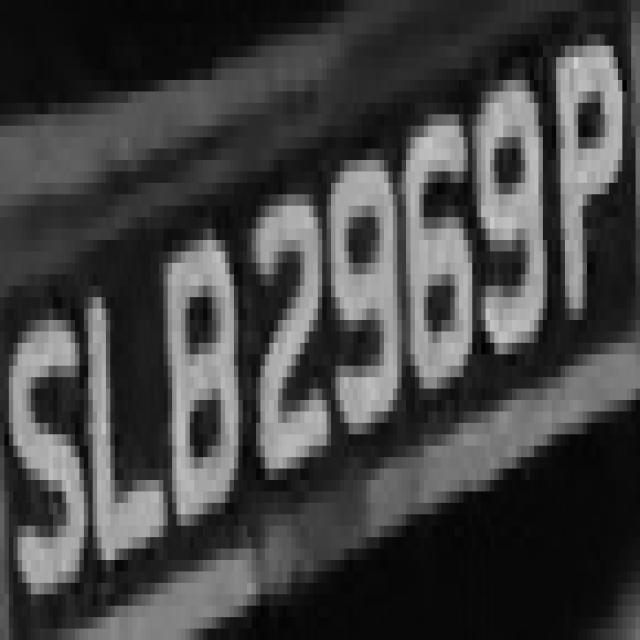2: (238, 195, 340, 514)
6: (384, 80, 486, 434)
9: (468, 80, 552, 423), (322, 149, 411, 457)
B: (150, 206, 252, 548)
L: (75, 240, 163, 606)
P: (547, 23, 631, 331)
S: (0, 5, 1, 12)
